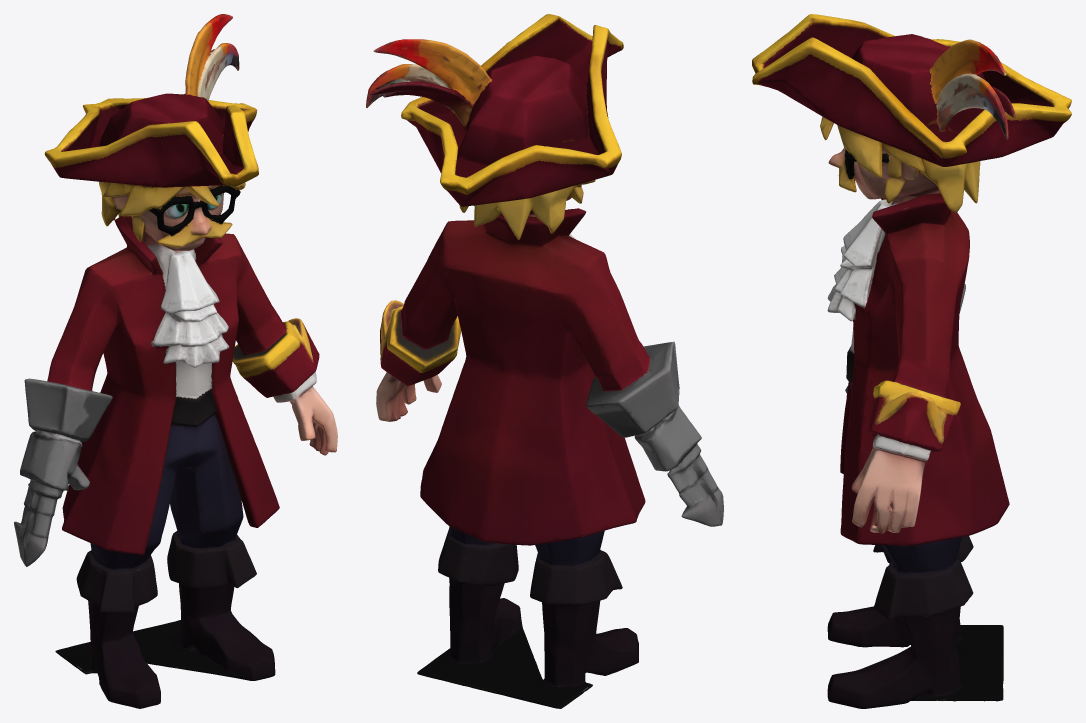
File: pablo.glb
3 views of the same model, side by side, from view 1: azimuth 30°, elevation 25°; view 2: azimuth 150°, elevation 25°; view 3: azimuth 270°, elevation 25° (orthographic). The views are drawn at different scales.
Parts seen in each view (by area): view 1: world; view 2: world; view 3: world.
Part boxes in pixels (bbox=[...]): world: bbox=[14, 14, 337, 708]; world: bbox=[366, 14, 723, 708]; world: bbox=[752, 14, 1071, 708].
Bounding box in the file's own units: 0.5461 × 1 × 0.4404.
1 material, 1 textured.
